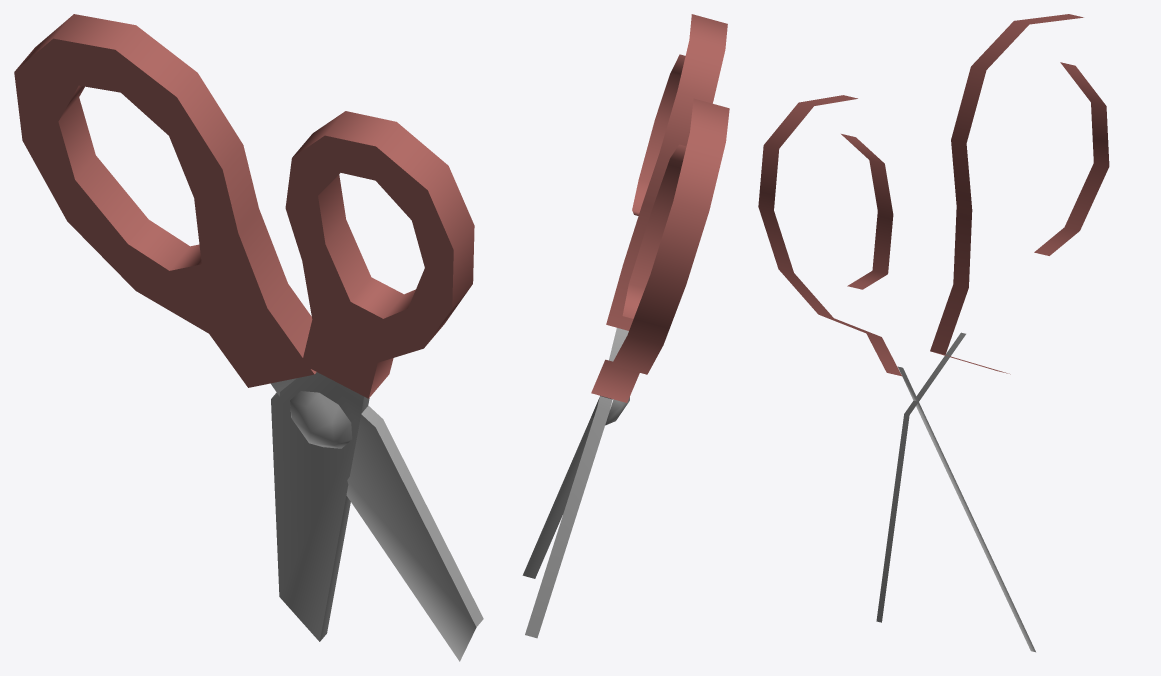
File: ScissorsA.glb
3 views of the same model, side by side, from view 1: azimuth 30°, elevation 25°; view 2: azimuth 150°, elevation 25°; view 3: azimuth 270°, elevation 25° (orthographic). The views are drawn at different scales.
Parts seen in each view (by area): view 1: ScissorsA; view 2: ScissorsA; view 3: ScissorsA.
Boxes of the visible parts, x1,y1,x2,y2 form: ScissorsA: (14,14,483,661); ScissorsA: (522,14,729,638); ScissorsA: (758,14,1109,652).
Bounding box in the file's own units: 0.1772 × 0.341 × 0.2175.
